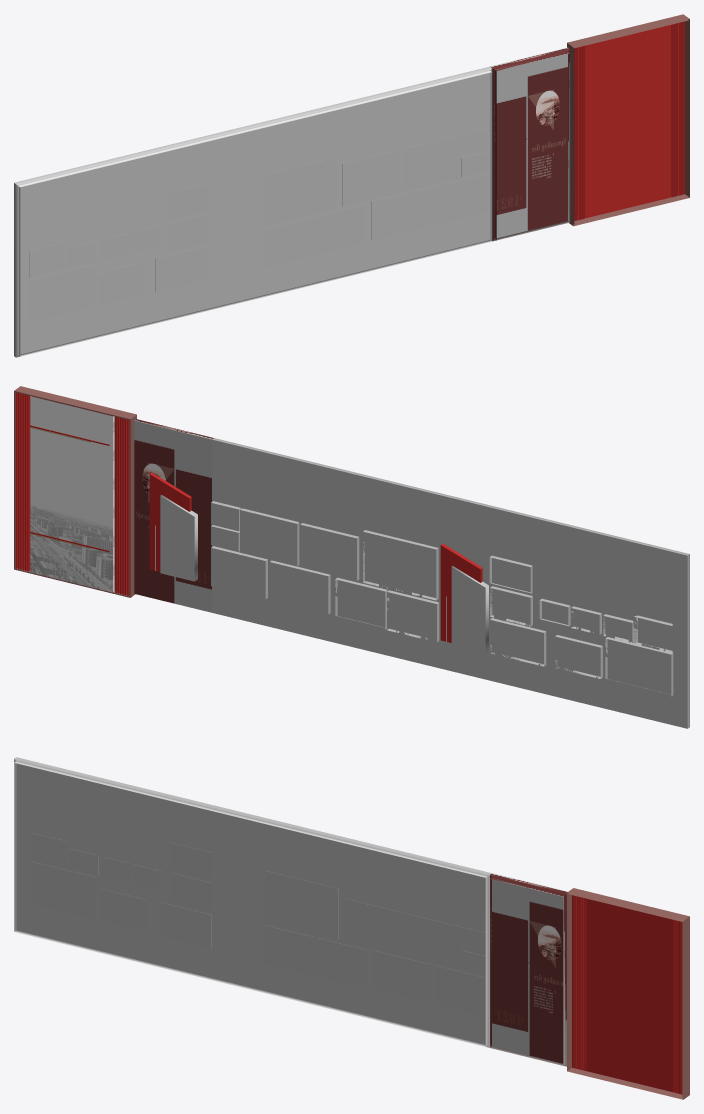
File: 新时代新征程.fbx
The picture shows the model from 3 angles, top to bottom: view 1: azimuth 30°, elevation 25°; view 2: azimuth 150°, elevation 25°; view 3: azimuth 330°, elevation 25°; orthographic projection.
Parts seen in each view (by area): view 1: picture, Photo, 未来寄语; view 2: picture, Photo, 未来寄语; view 3: picture, Photo, 未来寄语.
Part boxes in pixels (x1,y1,x2,y2): picture: [14, 47, 570, 357]; Photo: [28, 128, 488, 322]; 未来寄语: [567, 14, 689, 226]; picture: [134, 419, 689, 728]; Photo: [211, 501, 673, 696]; 未来寄语: [14, 386, 136, 597]; picture: [14, 757, 567, 1066]; Photo: [30, 833, 485, 1016]; 未来寄语: [567, 888, 689, 1099].
Bounding box in the file's own units: 15.09 × 3.84 × 0.2978.
